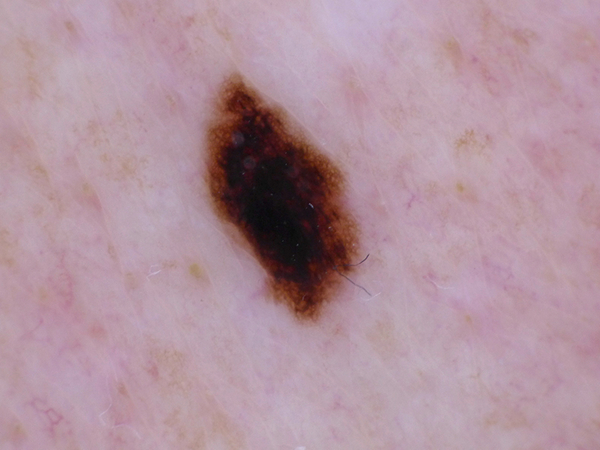Detected Lesion: (199, 70, 374, 334)
